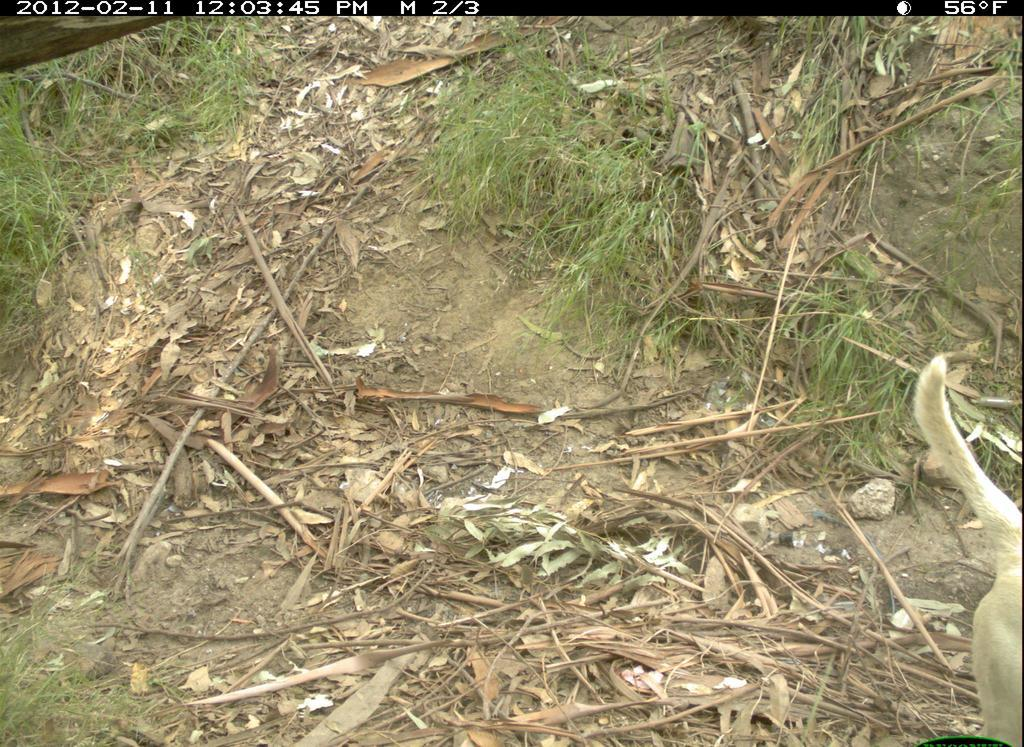dog: (911, 349, 1022, 745)
